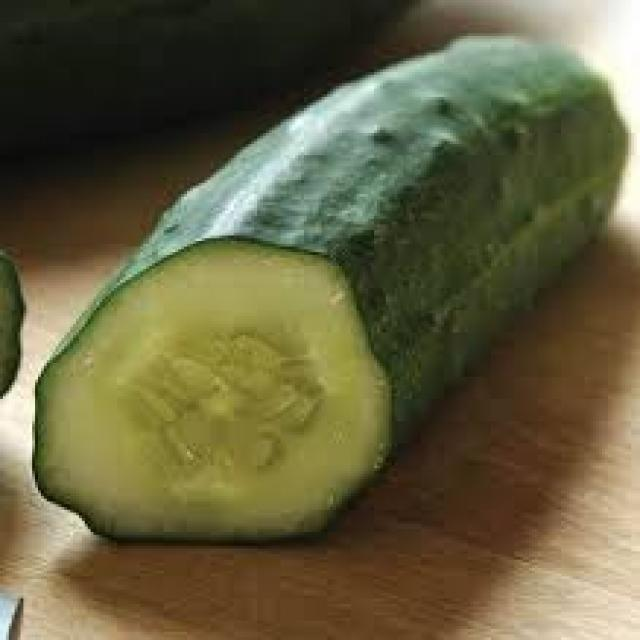cucumber: (29, 36, 626, 551)
